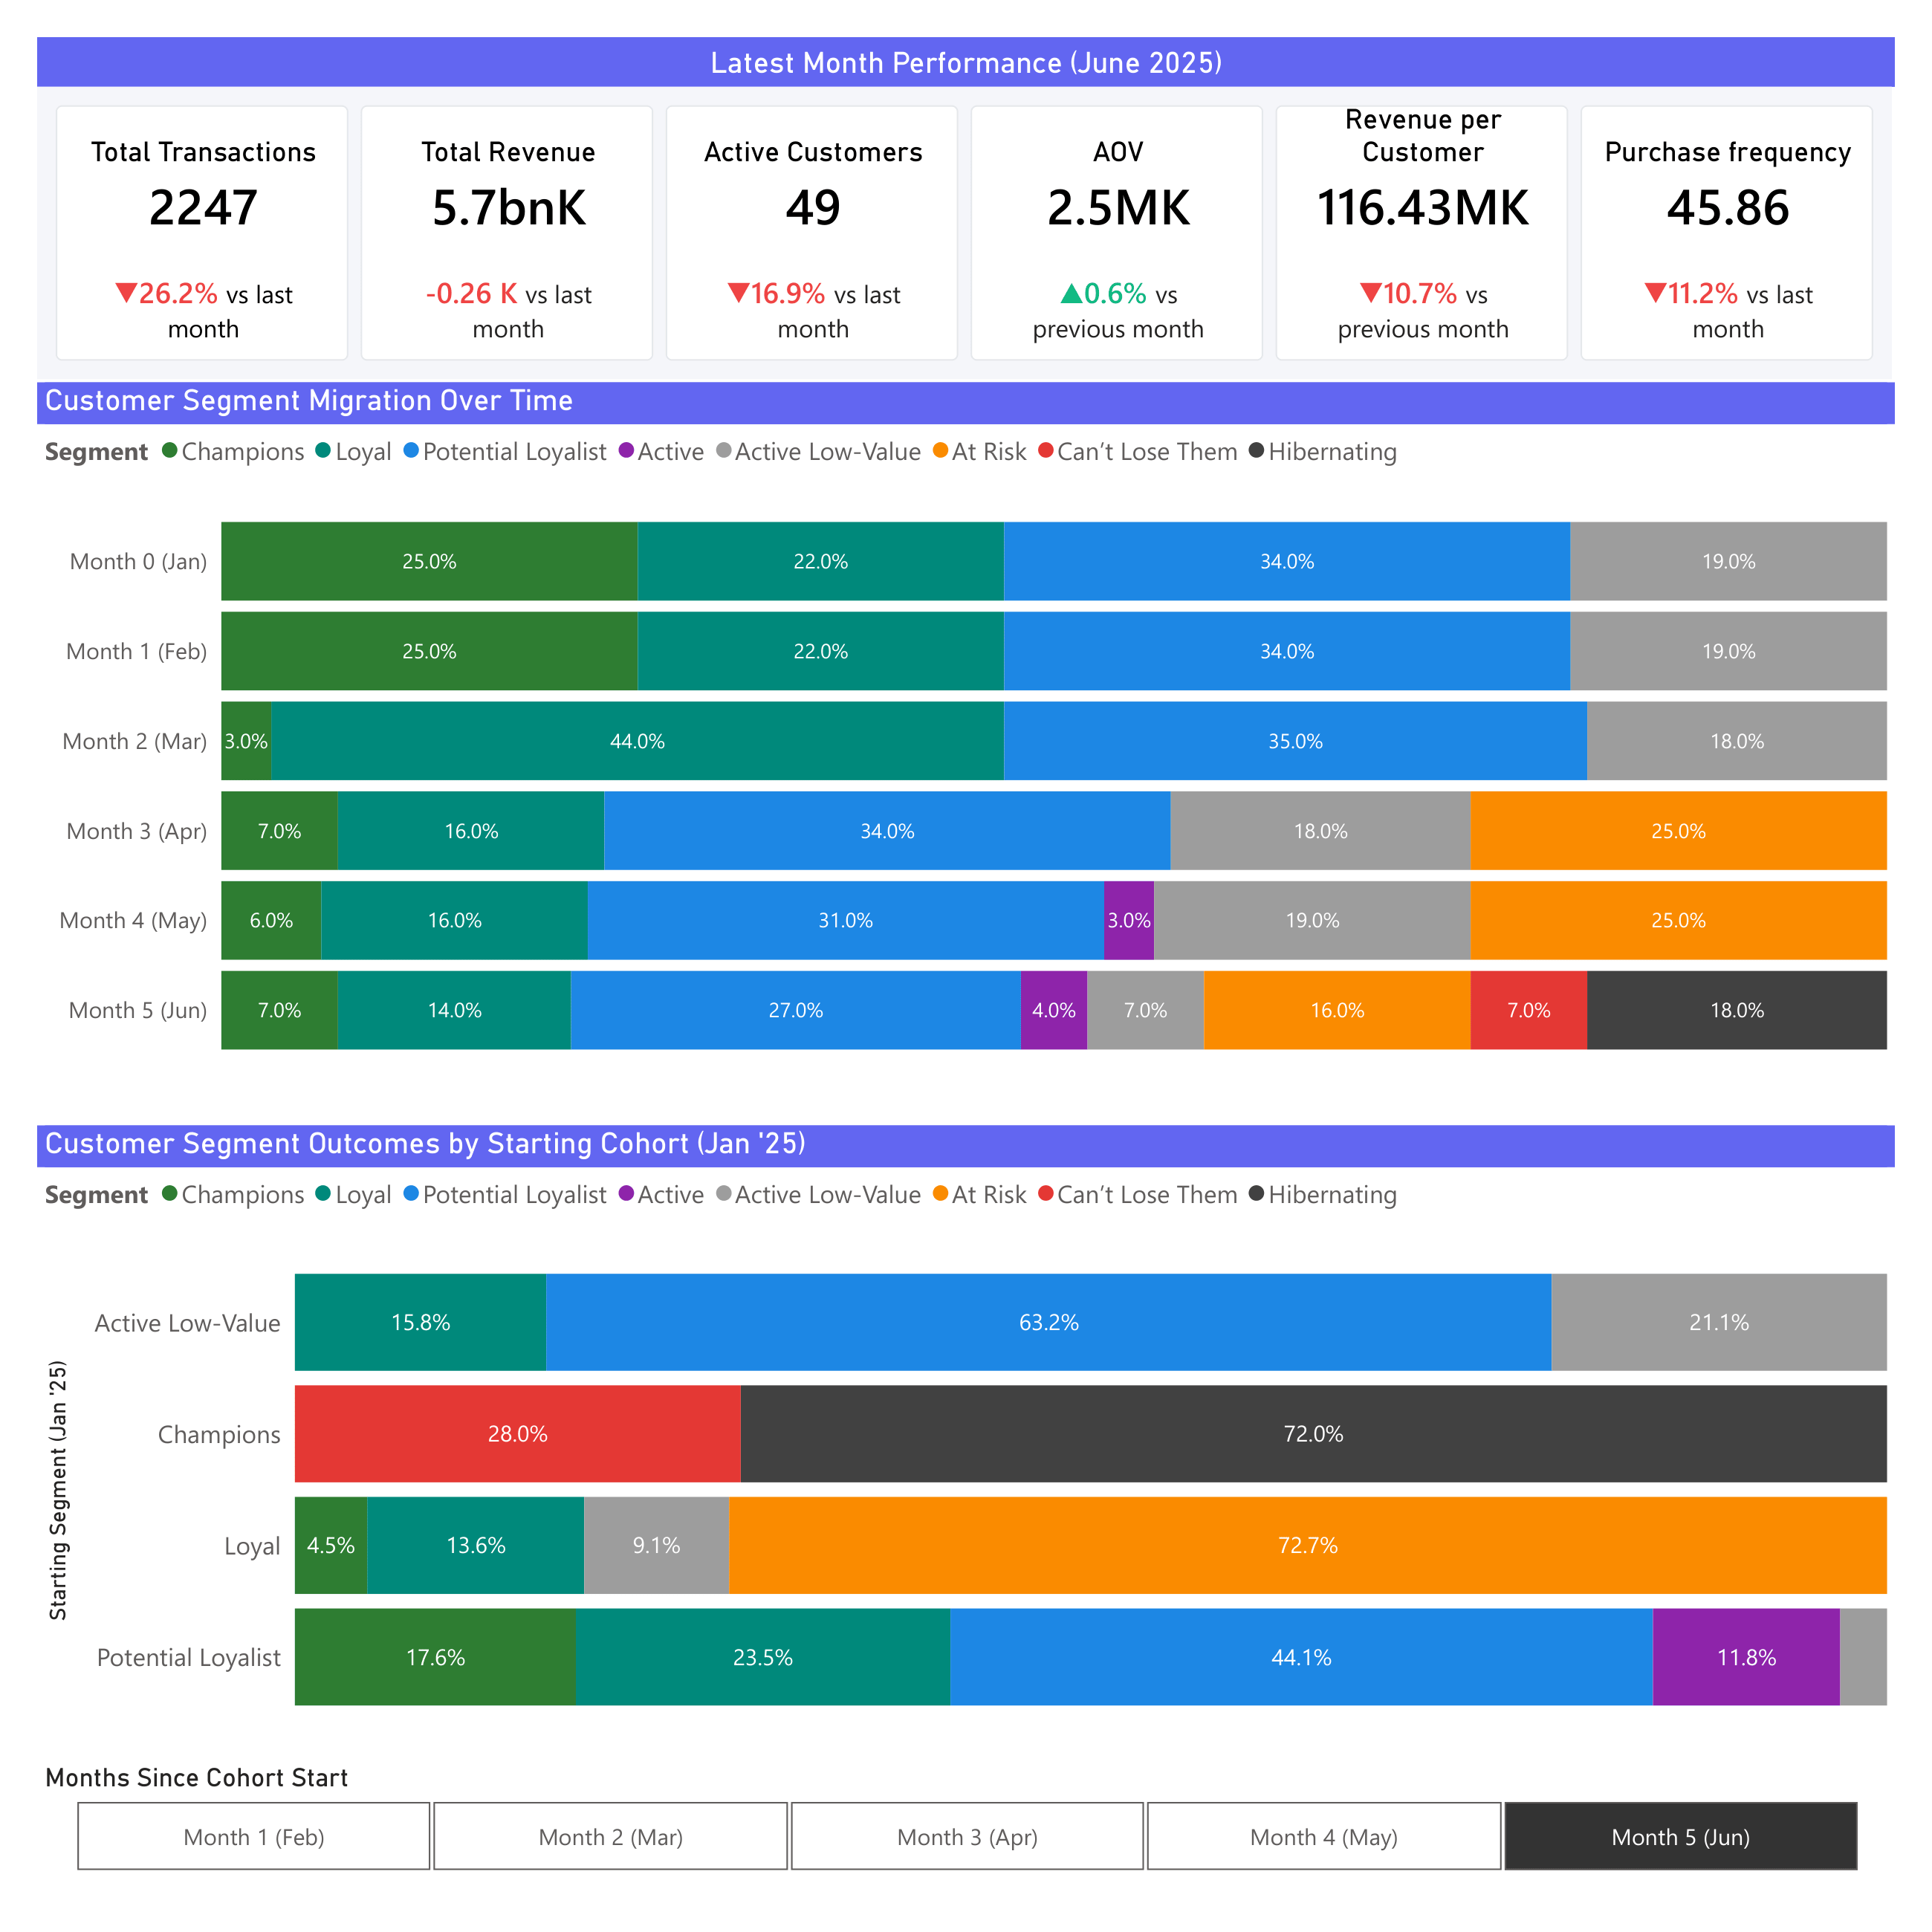

The page's visual inventory and layout, read from the dashboard file:
{"tool":"powerbi","page":{"name":"Cohorts","canvas":[1200,1200],"ordinal":3},"visuals":[{"type":"cardVisual","title":"Latest Month Performance (June 2025)","fields":{"Data":["fact_transactions.Total transactions","fact_transactions.Total revenue","fact_transactions.Active customers","fact_transactions.AOV","fact_transactions.Revenue per Customer","fact_transactions.Purchase frequency"]},"box":[0,0,1200,221.7],"z":0},{"type":"hundredPercentStackedBarChart","title":"Customer Segment Migration Over Time","fields":{"Category":["dim_cohorts.Month Label"],"Y":["Count(dim_cohorts.customer_id)"],"Series":["Segments.segment_label"]},"box":[0,223.5,1200,460],"z":4000},{"type":"hundredPercentStackedBarChart","title":"Customer Segment Outcomes by Starting Cohort (Jan ''25)","fields":{"Category":["dim_cohorts.cohort_name_jan"],"Y":["Count(dim_cohorts.customer_id)"],"Series":["Segments.segment_label"]},"box":[0,703.5,1200,410],"z":5000},{"type":"slicer","title":"Months Since Cohort Start","fields":{"Values":["dim_cohorts.Month Label"]},"box":[0,1114.2,1200,76.7],"z":6000}]}

Visuals, with their boxes in screenshot pixels (x1, y1, x2, y2), scaled from the page's 1200x1200 canvas onto the 1932x1932 screenshot:
"Latest Month Performance (June 2025)" cardVisual: (x1=0, y1=0, x2=1931, y2=357)
"Customer Segment Migration Over Time" hundredPercentStackedBarChart: (x1=0, y1=360, x2=1931, y2=1100)
"Customer Segment Outcomes by Starting Cohort (Jan ''25)" hundredPercentStackedBarChart: (x1=0, y1=1132, x2=1931, y2=1793)
"Months Since Cohort Start" slicer: (x1=0, y1=1794, x2=1931, y2=1917)
